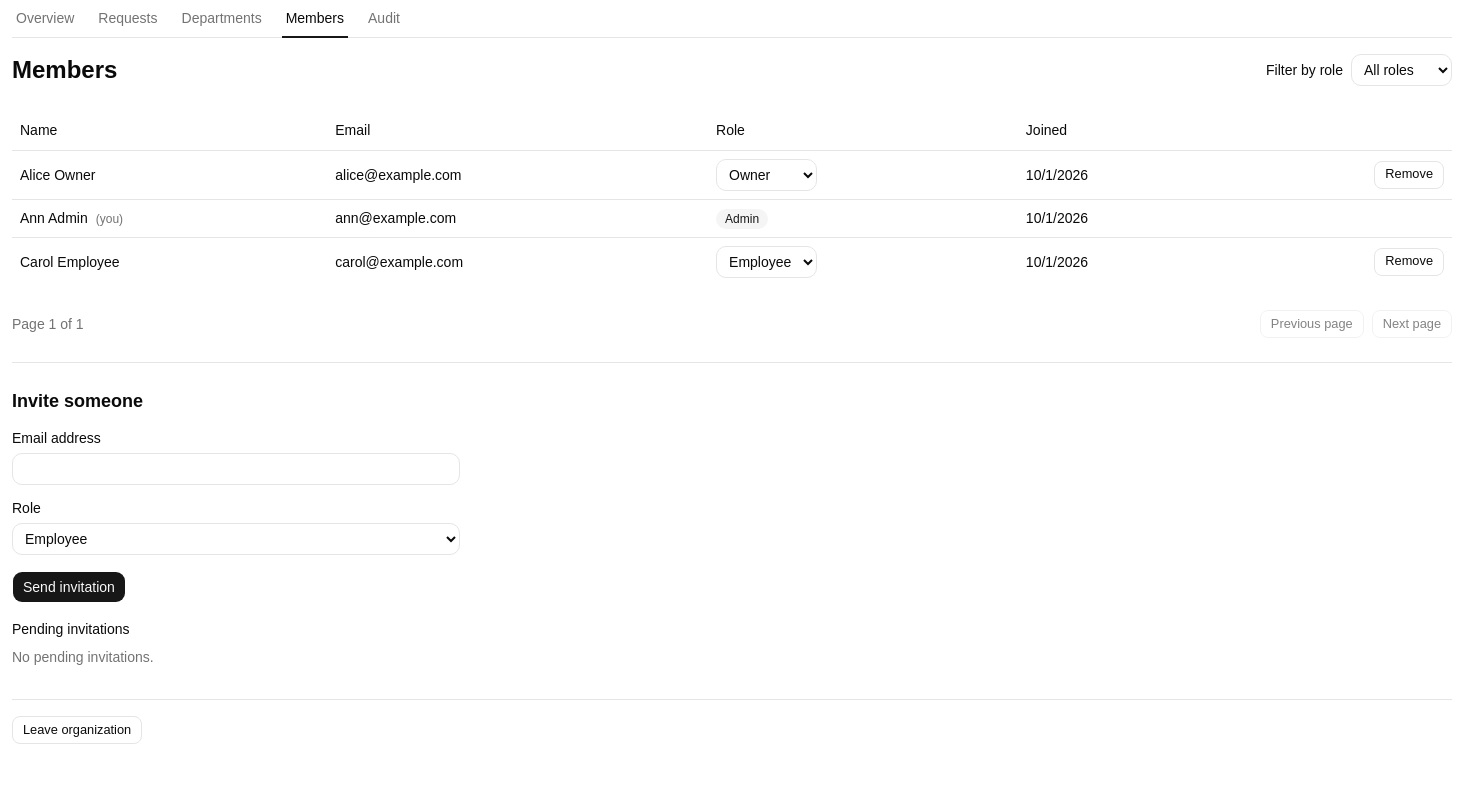
Test: MembersPage › explains why the last owner cannot leave
Click the button "Leave organization": (77, 730) [12, 716, 142, 744]
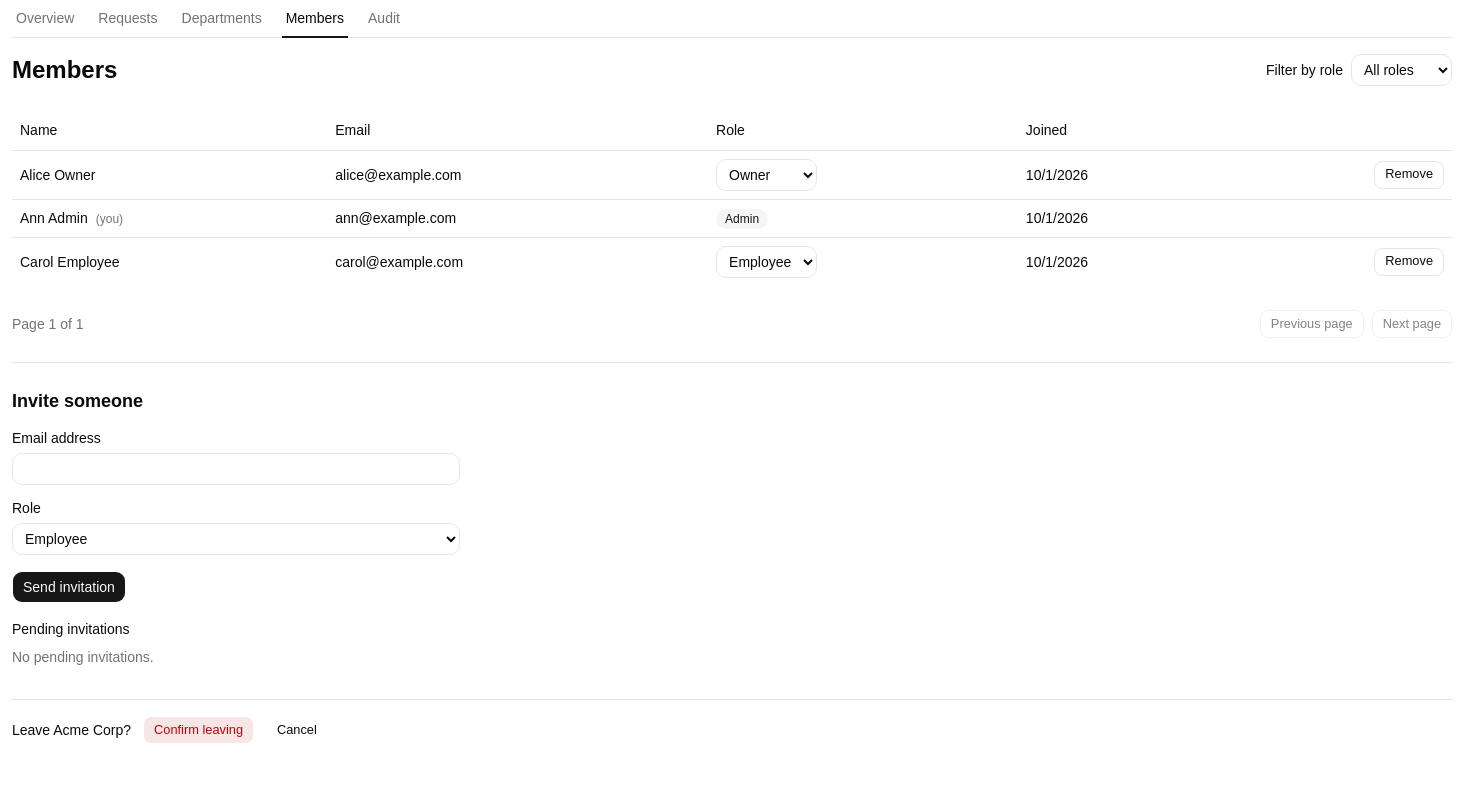
Click the button "Confirm leaving": (199, 730) [143, 716, 254, 744]
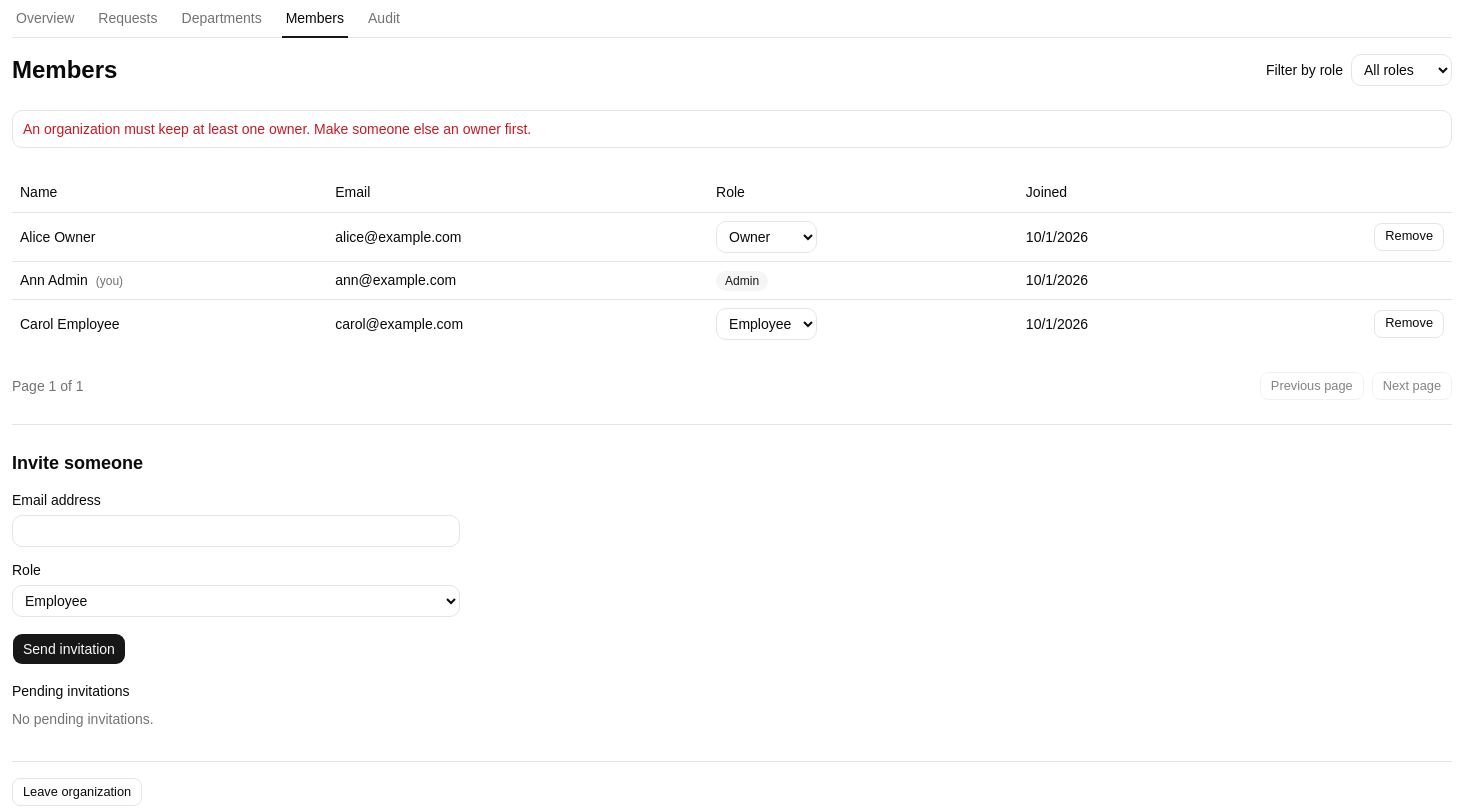
expect the text "must keep at least one owner" is shown: met, box [23, 121, 531, 137]
